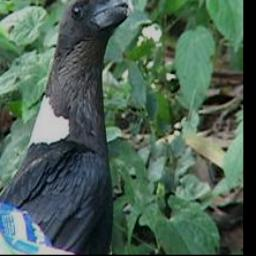Crow: (0, 0, 135, 252)
